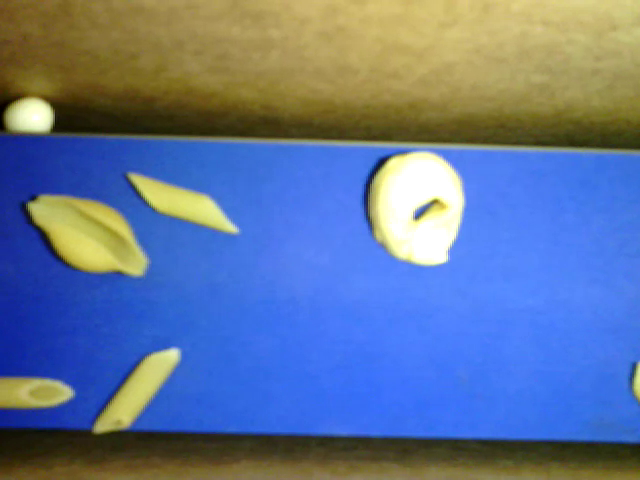penne: (92, 347, 181, 433), (126, 171, 240, 233), (1, 376, 77, 408)
shell: (25, 195, 150, 277)
tortellini: (369, 148, 465, 266)
